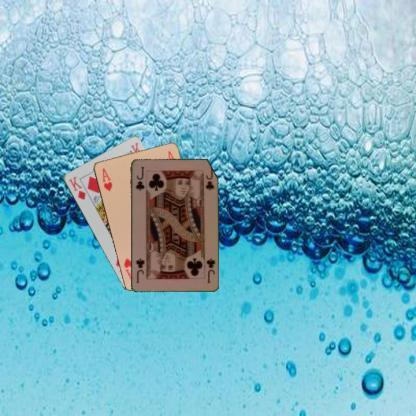Ah: (100, 166, 113, 192)
Jc: (133, 164, 145, 192), (204, 256, 216, 284)
Kd: (66, 174, 86, 201)
